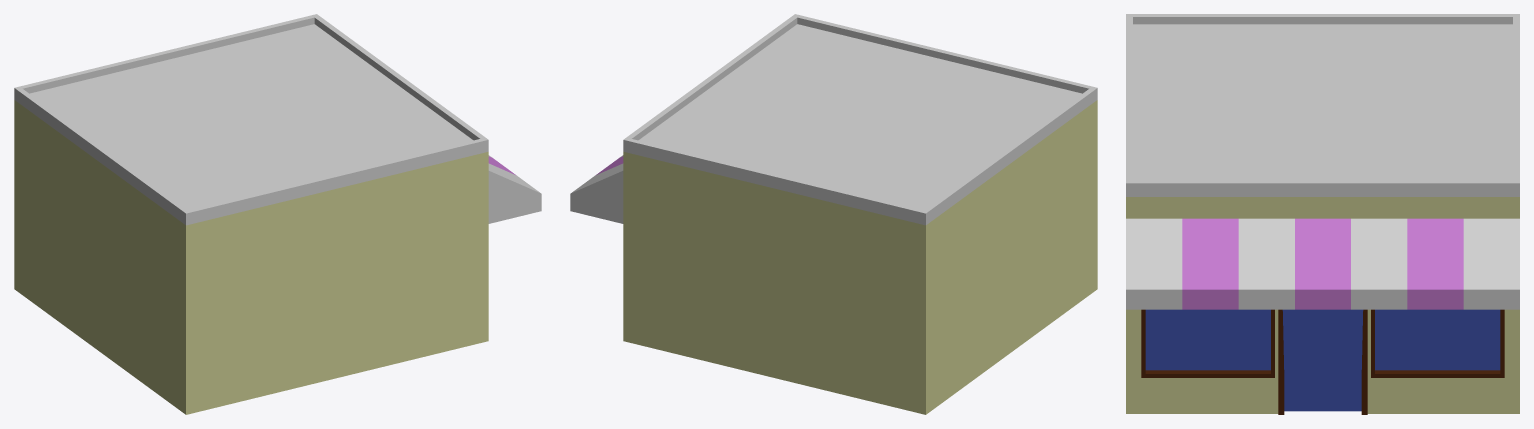
The model's file is cartoonshop2.dae.
3 views of the same model, side by side, from view 1: azimuth 30°, elevation 25°; view 2: azimuth 150°, elevation 25°; view 3: azimuth 270°, elevation 25° (orthographic). The views are drawn at different scales.
Visible parts, largest first — view 1: Cube_042, Cube_043, Cube_039; view 2: Cube_042, Cube_043, Cube_039; view 3: Cube_043, Cube_042, Cube_039, Cube_040.
Boxes of the visible parts, x1,y1,x2,y2 form: Cube_042: (14, 100, 488, 414); Cube_043: (14, 14, 488, 225); Cube_039: (488, 155, 541, 223); Cube_042: (623, 100, 1097, 414); Cube_043: (623, 14, 1097, 225); Cube_039: (570, 155, 623, 223); Cube_043: (1126, 14, 1519, 196); Cube_042: (1126, 197, 1519, 413); Cube_039: (1126, 218, 1519, 309); Cube_040: (1141, 309, 1504, 414).
Size of the model in its own units: 4.59 by 3.84 by 2.48.
